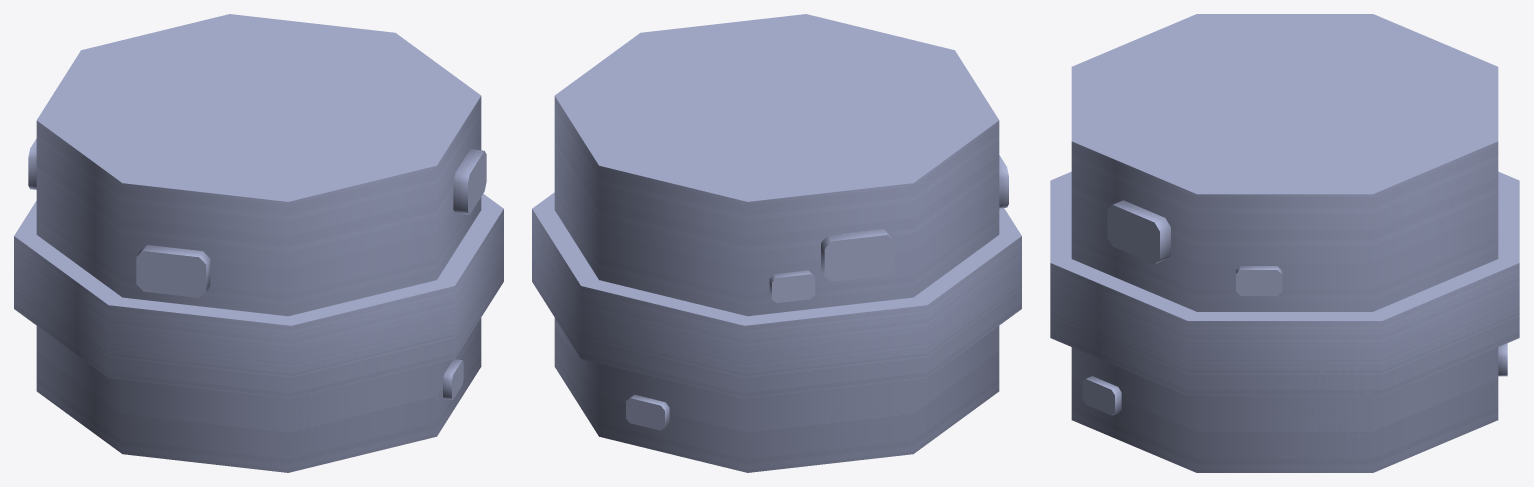
File: tower-middle_lev2.glb
The picture shows the model from 3 angles, left to right: view 1: azimuth 30°, elevation 25°; view 2: azimuth 150°, elevation 25°; view 3: azimuth 270°, elevation 25°; orthographic projection. The views are drawn at different scales.
Visible parts, largest first — view 1: tower-middle_lev2; view 2: tower-middle_lev2; view 3: tower-middle_lev2.
Boxes of the visible parts, box(x1,y1,x2,y2) form: tower-middle_lev2: box(14, 14, 503, 472); tower-middle_lev2: box(532, 14, 1021, 472); tower-middle_lev2: box(1050, 14, 1519, 472).
Bounding box in the file's own units: 11.83 × 7.75 × 11.83.
1 material, 1 textured.
